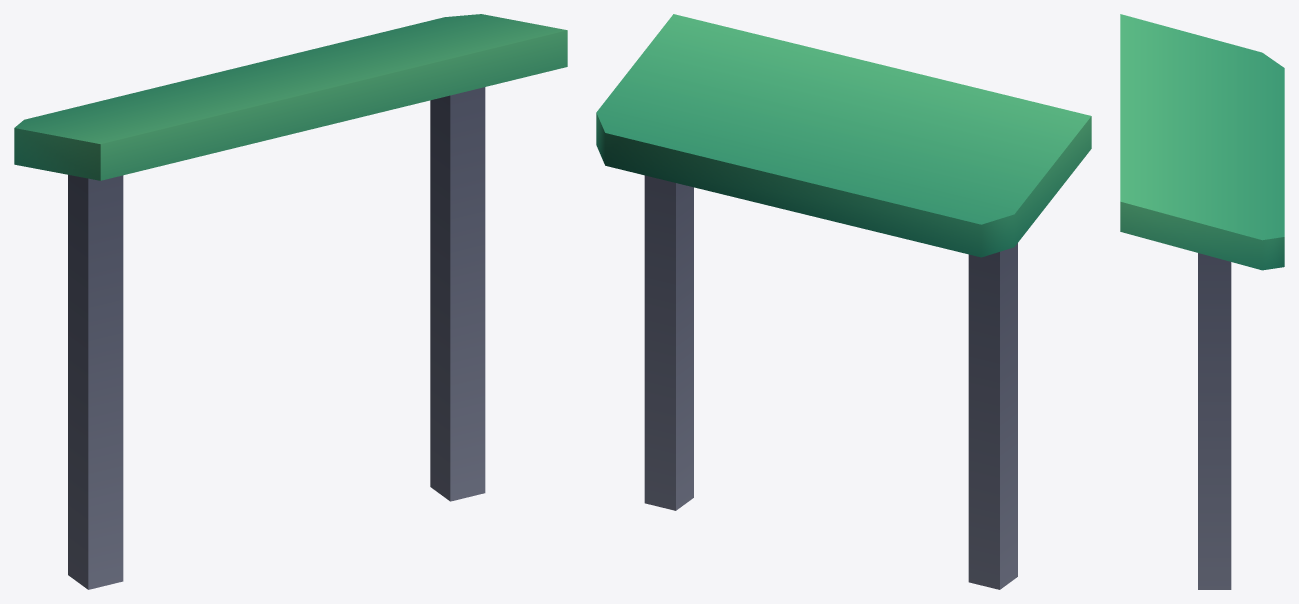
Rendered from awning.glb.
The picture shows the model from 3 angles, left to right: view 1: azimuth 30°, elevation 25°; view 2: azimuth 150°, elevation 25°; view 3: azimuth 270°, elevation 25°; orthographic projection. The views are drawn at different scales.
Parts seen in each view (by area): view 1: detail-awning; view 2: detail-awning; view 3: detail-awning.
Boxes of the visible parts, box(x1,y1,x2,y2) form: detail-awning: box(14, 14, 567, 589); detail-awning: box(596, 14, 1091, 589); detail-awning: box(1120, 14, 1284, 589).
Bounding box in the file's own units: 0.4 × 0.4 × 0.1479.
Materials: 1 (1 with a texture image).
